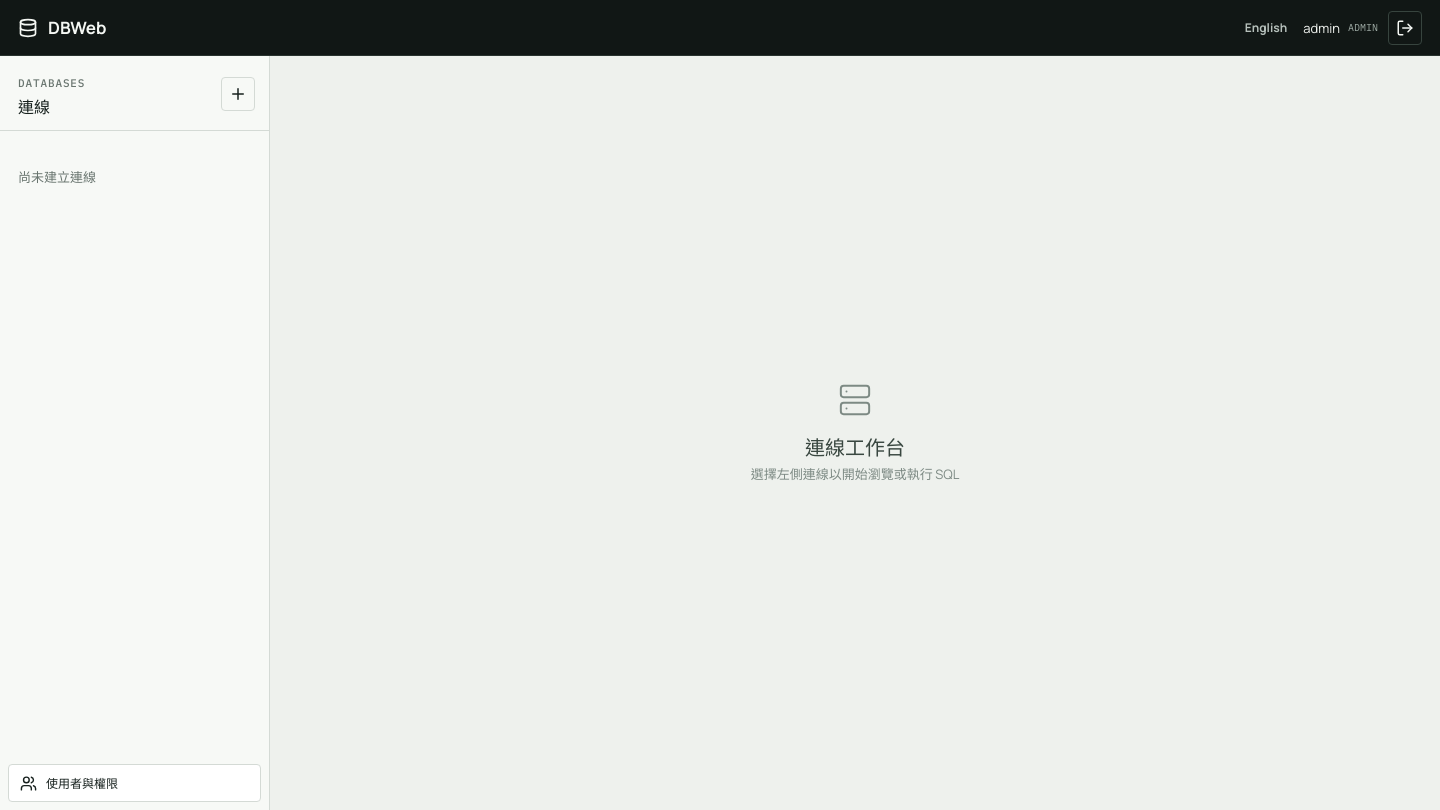
Test case: DBWeb application shell › creates a managed user and shows the generated temporary password once
Click the button "使用者與權限".
click(134, 783)  # box [8,764,261,802]
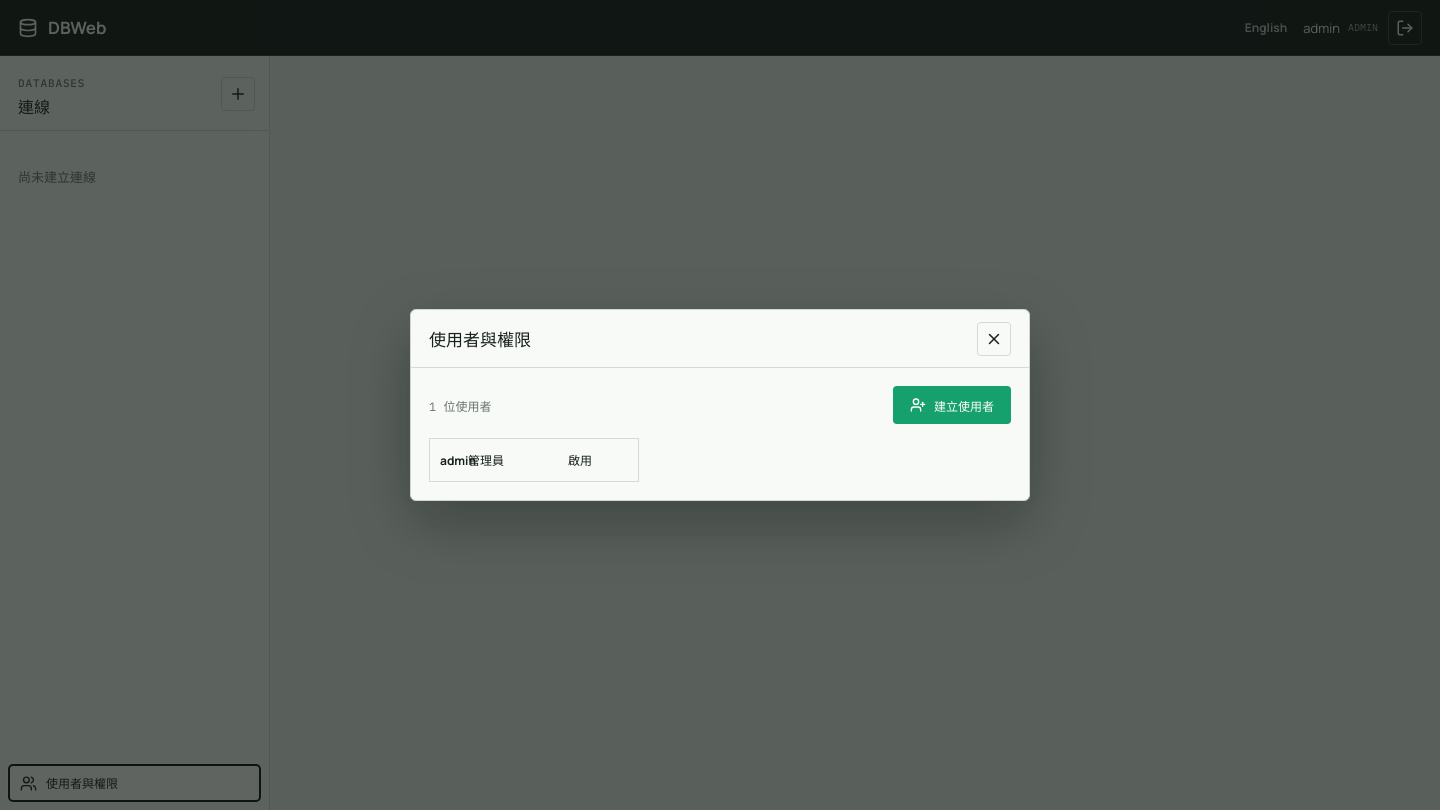
Click the button "建立使用者".
click(952, 405)  # box [893,386,1011,424]
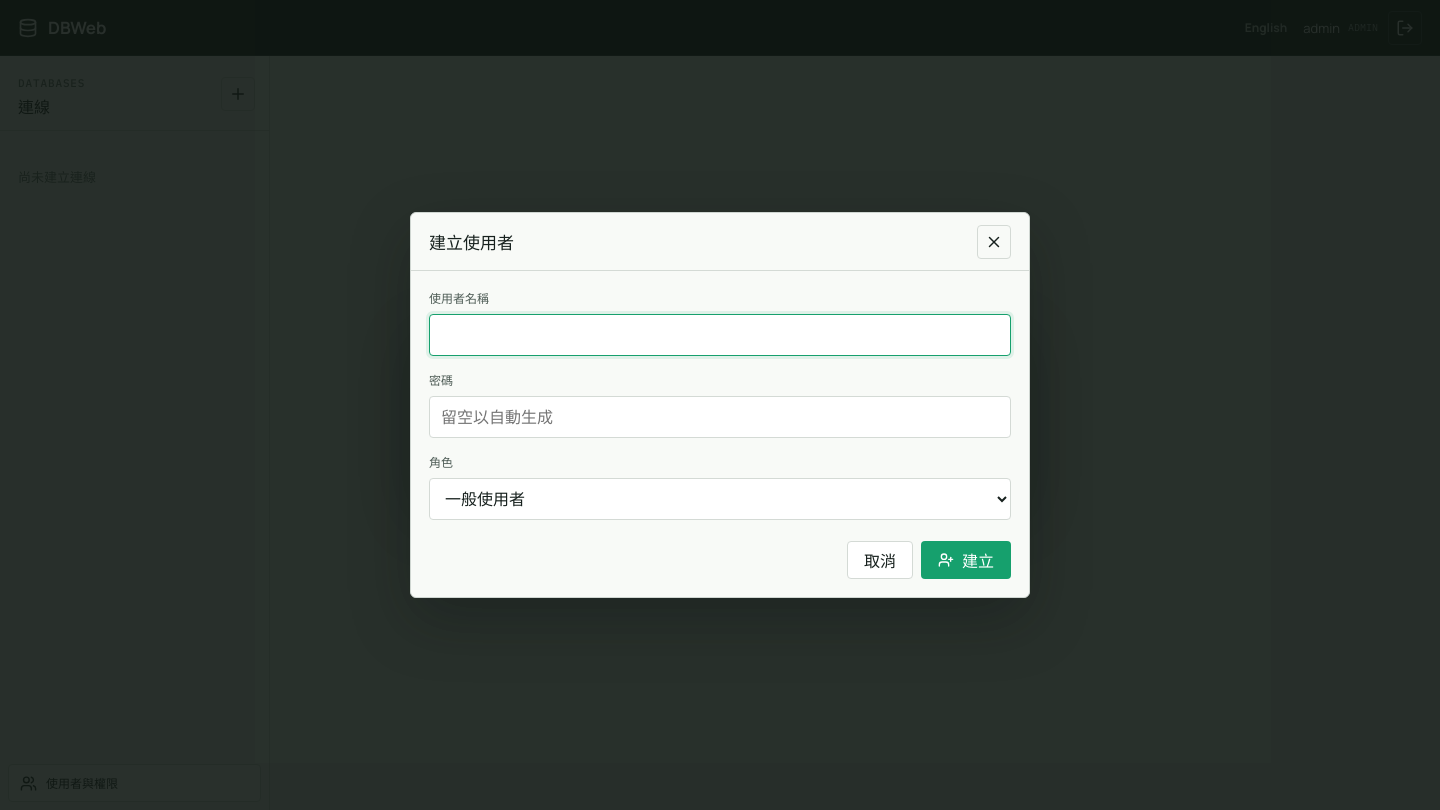
Type "reader" into the field labelled "使用者名稱".
click(720, 335); type("reader")  # box [429,314,1011,356]
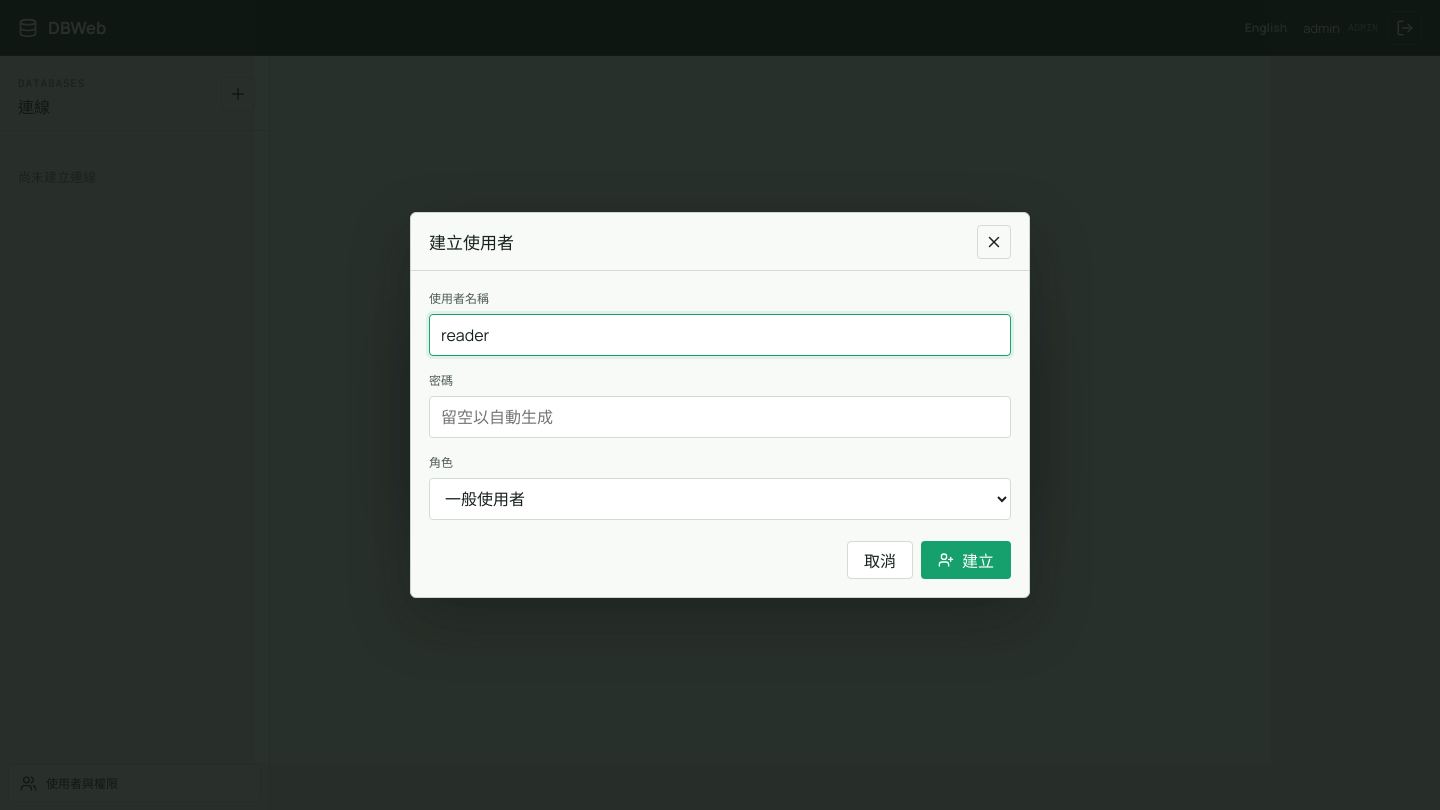
Click the button "建立".
click(966, 560)  # box [921,541,1011,579]
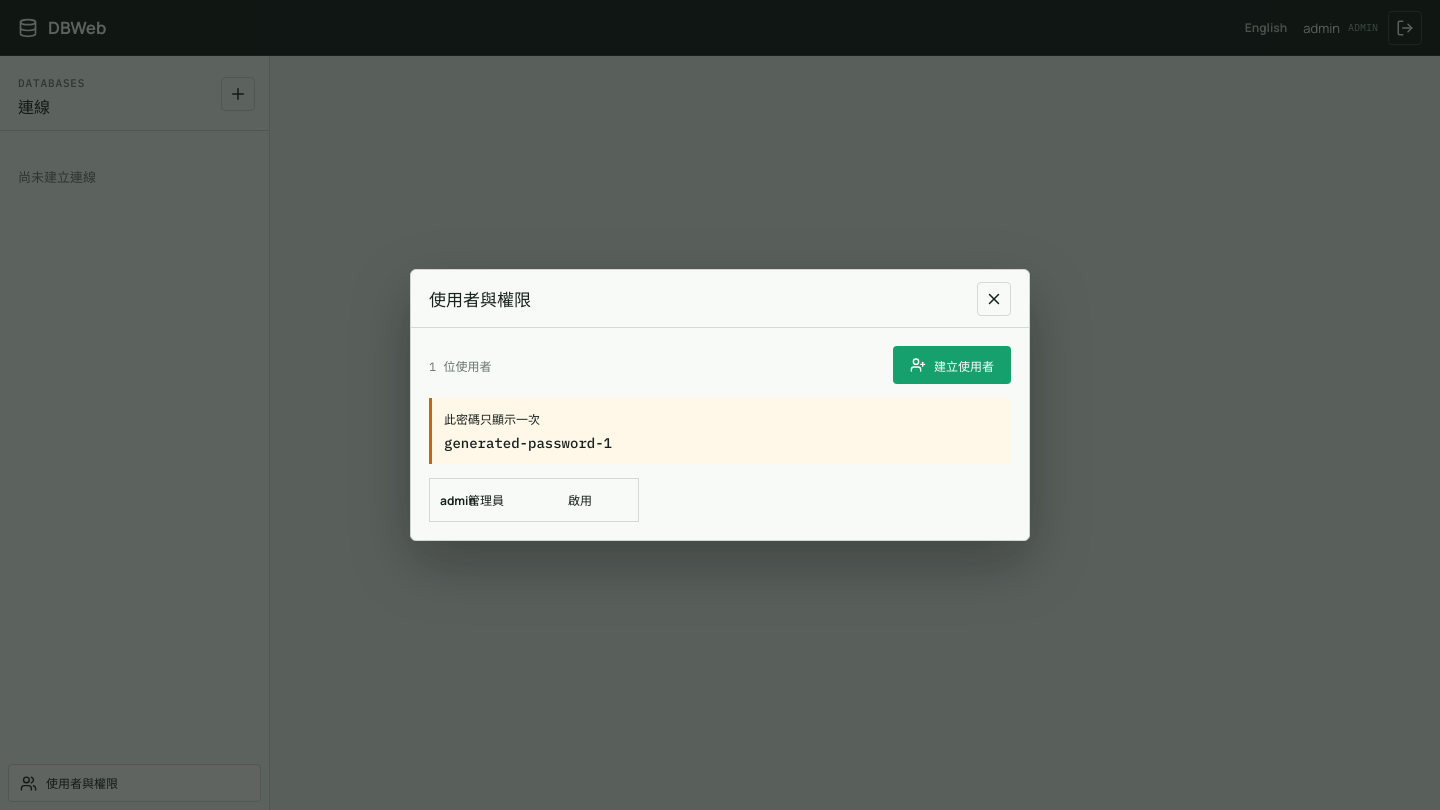
expect the text "generated-password-1" is shown: met, box [444,434,612,452]
expect the text "此密碼只顯示一次" is shown: met, box [444,411,540,428]
